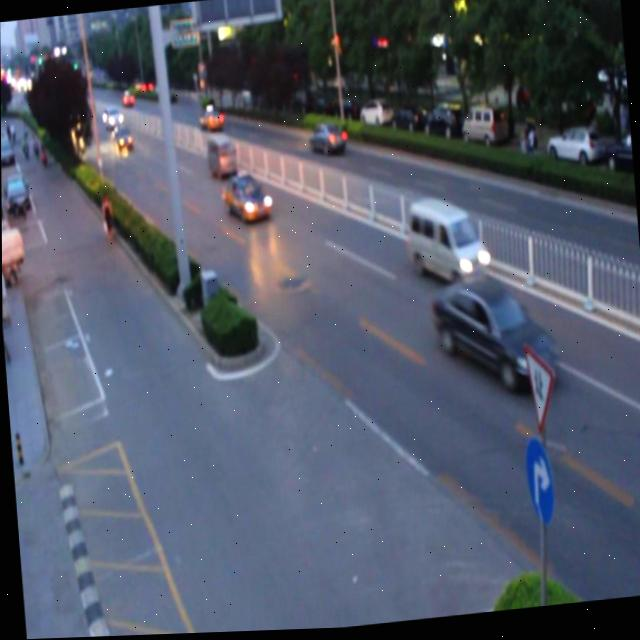car: (431, 273, 558, 405), (220, 171, 269, 228), (307, 126, 344, 157), (197, 104, 222, 132), (109, 123, 131, 152)
truck: (404, 192, 486, 291), (204, 132, 237, 181)
